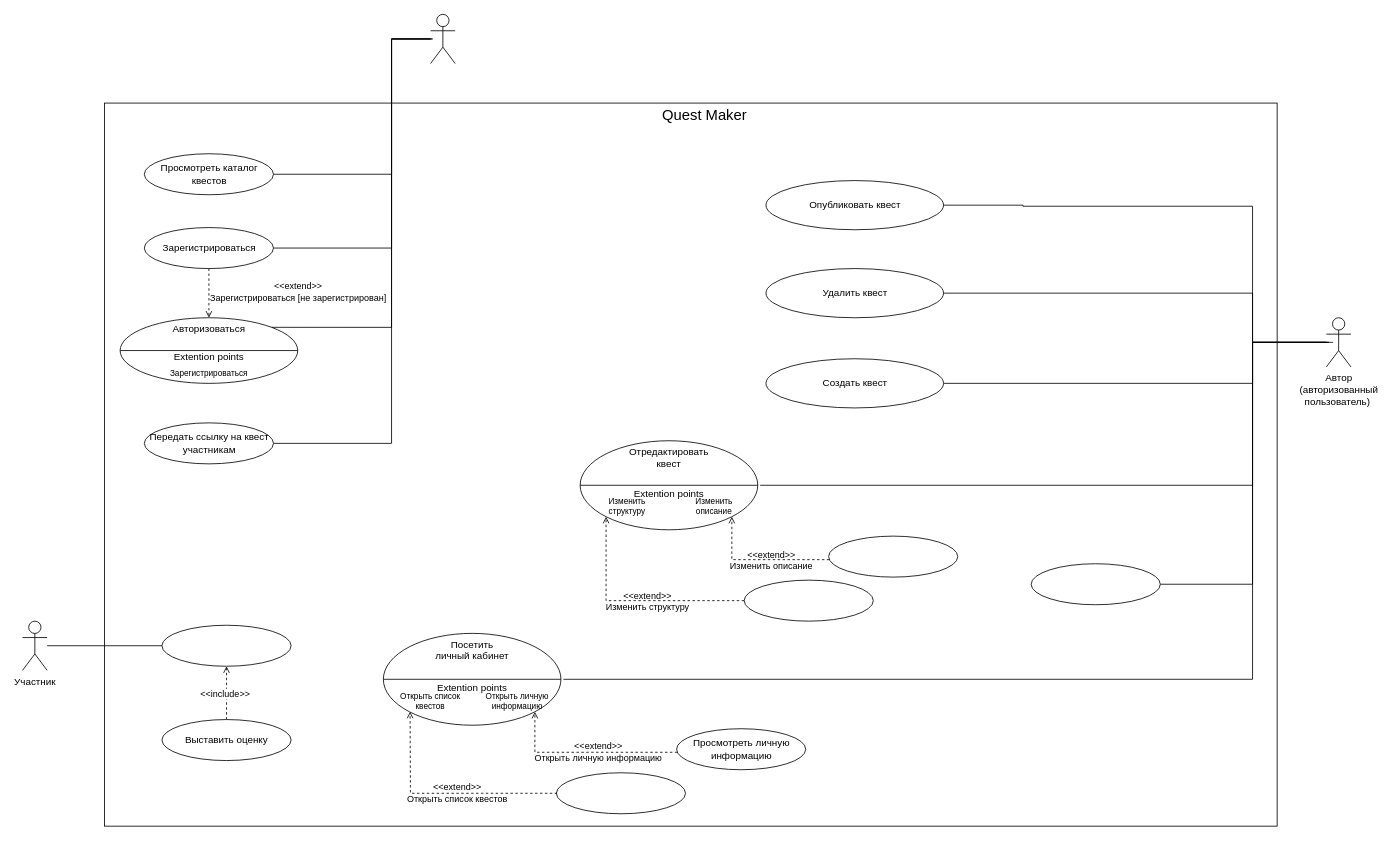
Some shapes in this 1392 by 841 pixel diagram are drawn without their labels. Here are the shapes that lost their labels. From the top down, the centre of each, then its label:
(x=442, y=39): Посетитель сайта
(x=893, y=556): Изменить описание квеста
(x=808, y=600): Изменить структуру квеста
(x=1095, y=584): Выйти из аккаунта
(x=226, y=645): Пройти квест
(x=621, y=793): Просмотреть список созданных квестов
